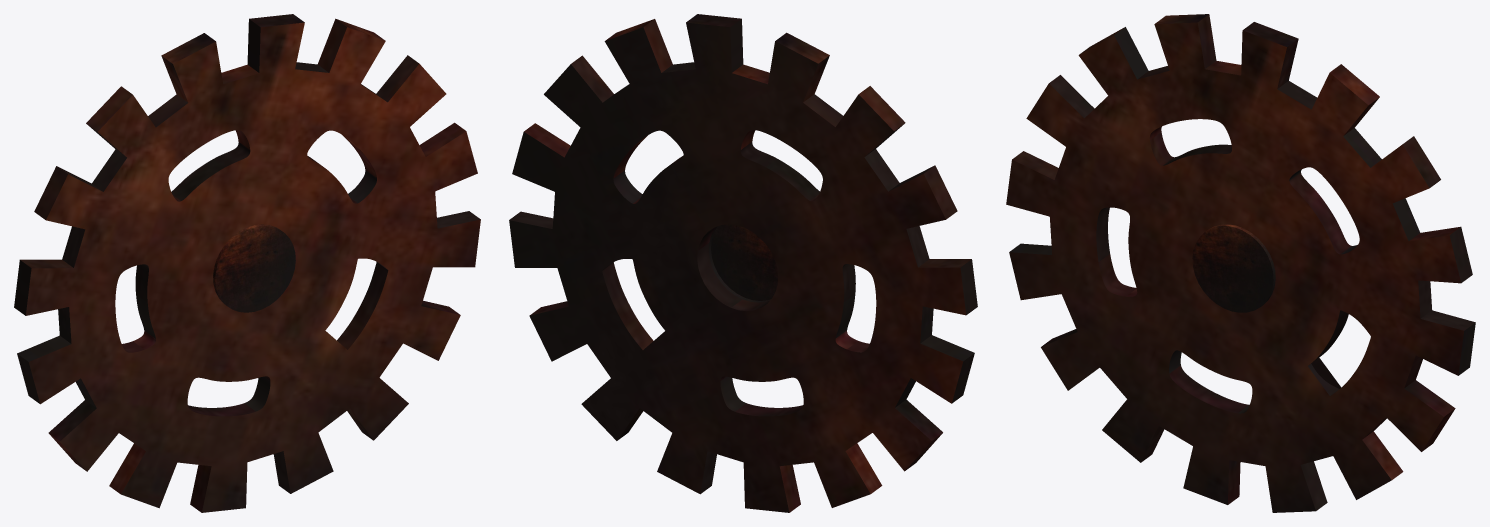
File: Gear1.obj
The picture shows the model from 3 angles, left to right: view 1: azimuth 30°, elevation 25°; view 2: azimuth 150°, elevation 25°; view 3: azimuth 330°, elevation 25°; orthographic projection.
Parts seen in each view (by area): view 1: gear1.1_RustOscuro; view 2: gear1.1_RustOscuro; view 3: gear1.1_RustOscuro.
Part boxes in pixels (x1=…): gear1.1_RustOscuro: x1=14, y1=14, x2=480, y2=512; gear1.1_RustOscuro: x1=509, y1=14, x2=977, y2=512; gear1.1_RustOscuro: x1=1006, y1=14, x2=1475, y2=512.
Size of the model in its own units: 2.05 by 2.05 by 0.1118.
